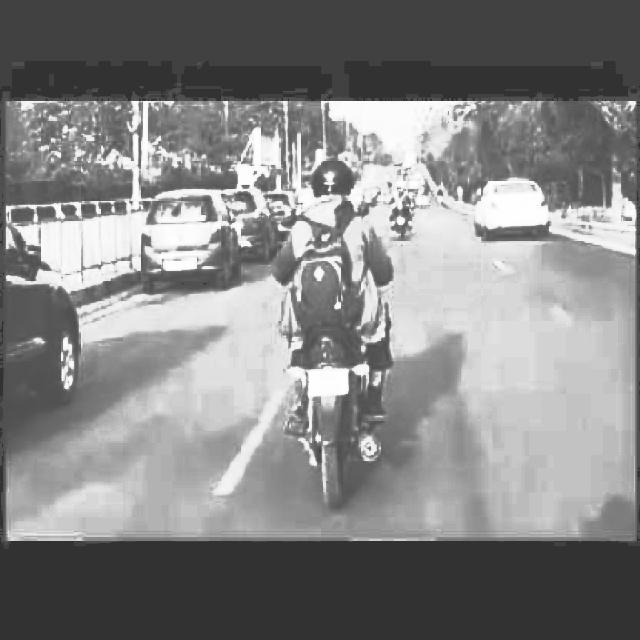Car: (0, 207, 80, 416), (134, 183, 254, 299), (480, 151, 553, 248), (232, 171, 271, 264)
